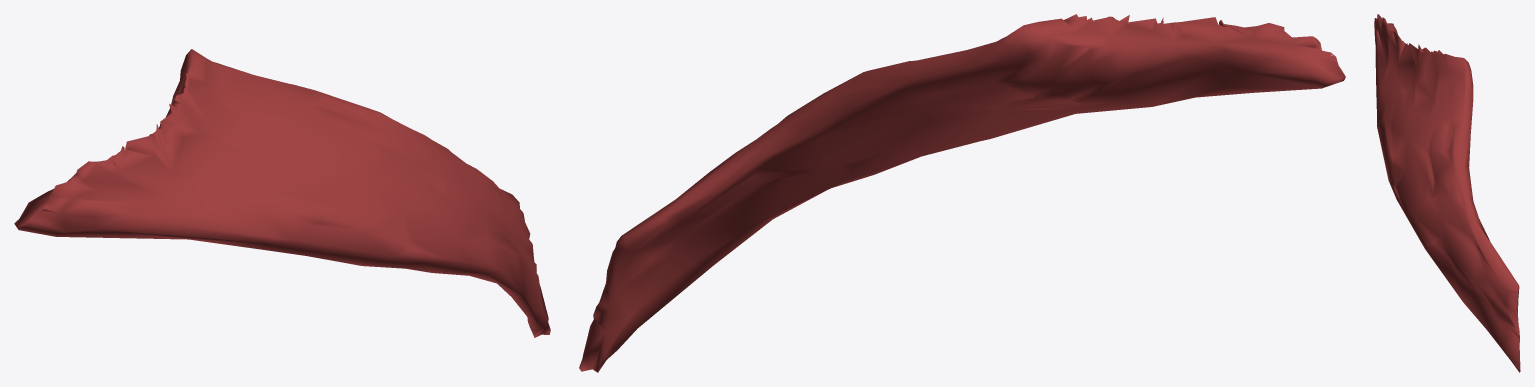
Rendered from clavicular-head-of-pectoralis-major-muscle-l.glb.
The picture shows the model from 3 angles, left to right: view 1: azimuth 30°, elevation 25°; view 2: azimuth 150°, elevation 25°; view 3: azimuth 270°, elevation 25°; orthographic projection. The views are drawn at different scales.
Parts seen in each view (by area): view 1: Clavicular head of pectoralis major muscle.l; view 2: Clavicular head of pectoralis major muscle.l; view 3: Clavicular head of pectoralis major muscle.l.
Boxes of the visible parts, bbox=[...] form: Clavicular head of pectoralis major muscle.l: bbox=[14, 49, 550, 337]; Clavicular head of pectoralis major muscle.l: bbox=[579, 14, 1345, 372]; Clavicular head of pectoralis major muscle.l: bbox=[1374, 14, 1520, 372].
Bounding box in the file's own units: 0.1734 × 0.1056 × 0.0652.
